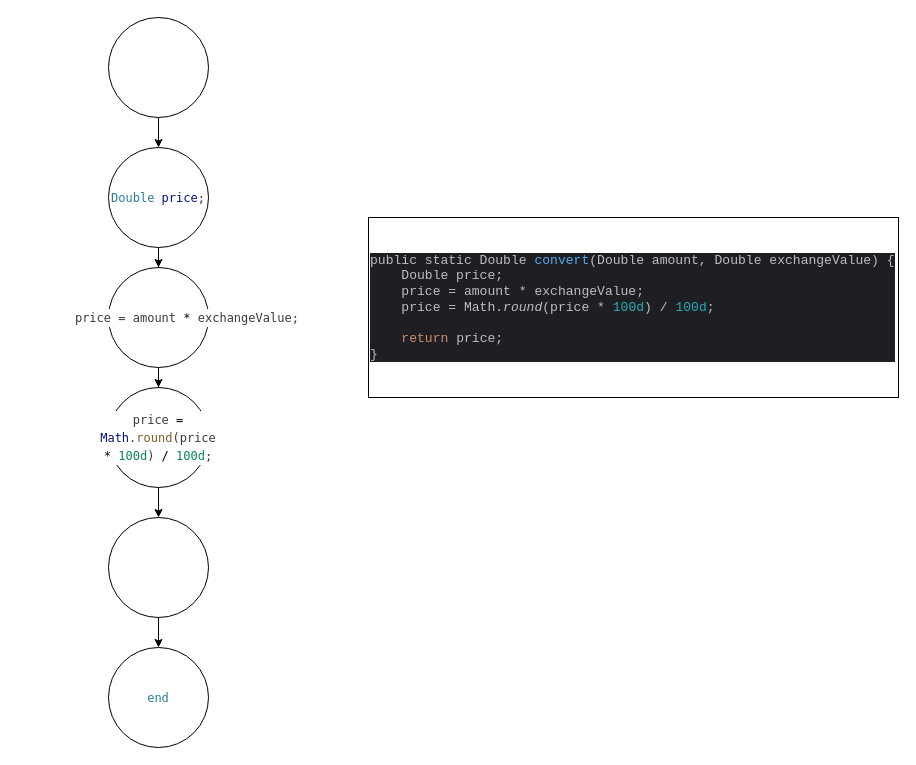
The diagram is 916 pixels wide and 765 high, and some of its shapes have lost their labels. Each missing label, with the centre of its shape:
return price;: the point at 158,567
start: the point at 158,67
